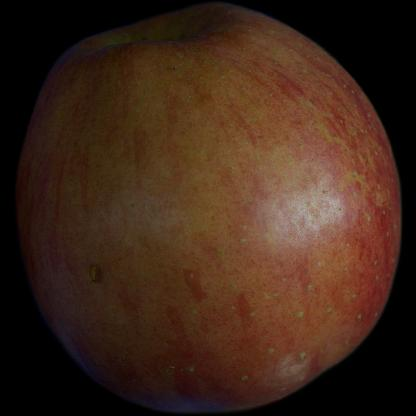defect: (59, 242, 135, 304)
